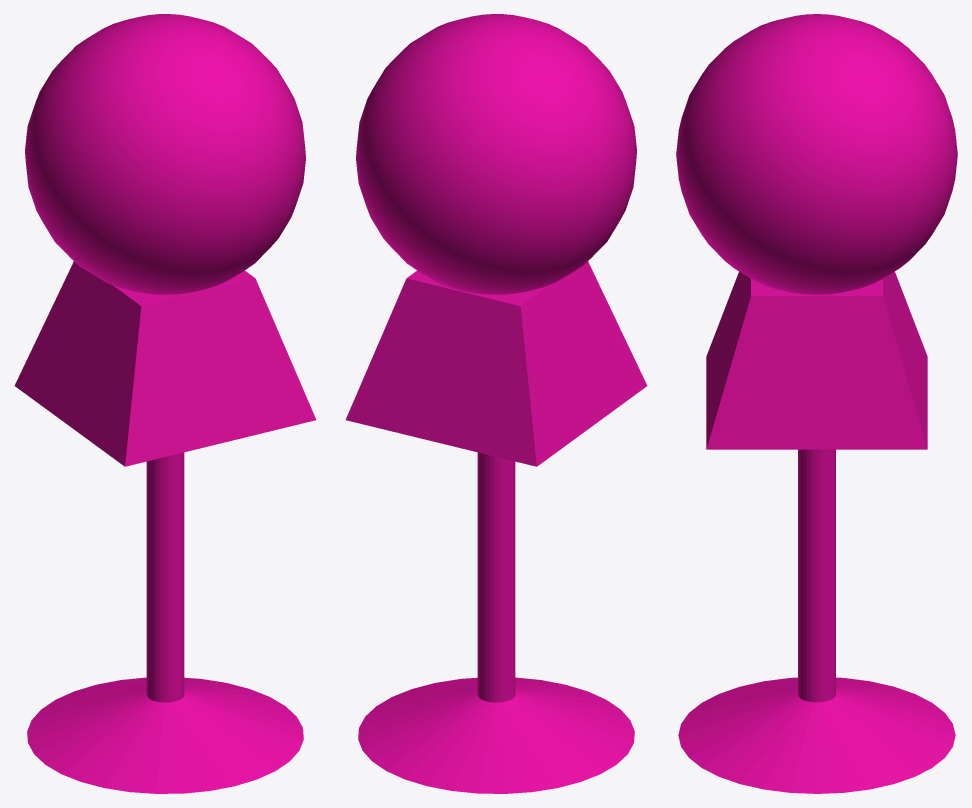
The model's file is Gumball Station.fbx.
The picture shows the model from 3 angles, left to right: view 1: azimuth 30°, elevation 25°; view 2: azimuth 150°, elevation 25°; view 3: azimuth 270°, elevation 25°; orthographic projection.
Visible parts, largest first — view 1: Storage, Distrubutor, Stand; view 2: Storage, Distrubutor, Stand; view 3: Storage, Distrubutor, Stand.
Part boxes in pixels (box(x1,y1,x2,y2)): Storage: box(25, 14, 305, 294); Distrubutor: box(14, 261, 316, 466); Stand: box(27, 452, 303, 793); Storage: box(356, 14, 636, 294); Distrubutor: box(345, 261, 647, 466); Stand: box(358, 452, 634, 793); Storage: box(676, 14, 957, 294); Distrubutor: box(706, 271, 927, 449); Stand: box(678, 449, 955, 793).
Size of the model in its own units: 49.51 by 137 by 49.51.
